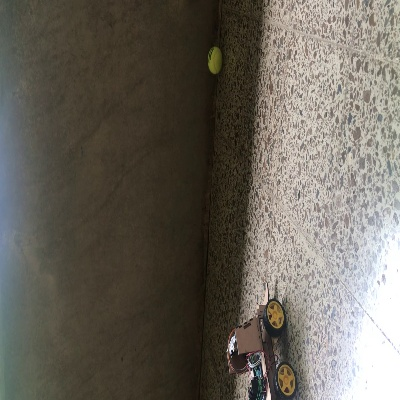Ball: (207, 46, 222, 75)
Robot: (225, 284, 298, 399)
